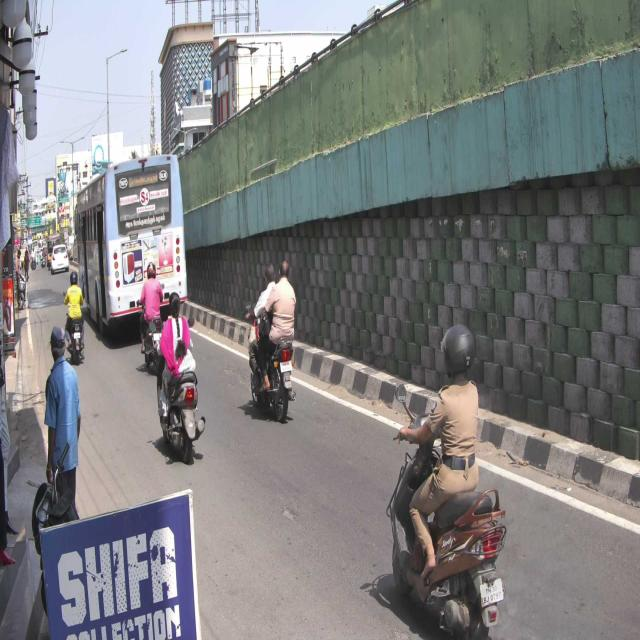double_rider: (245, 260, 296, 423)
single_rider: (385, 322, 508, 640), (153, 290, 206, 466)
